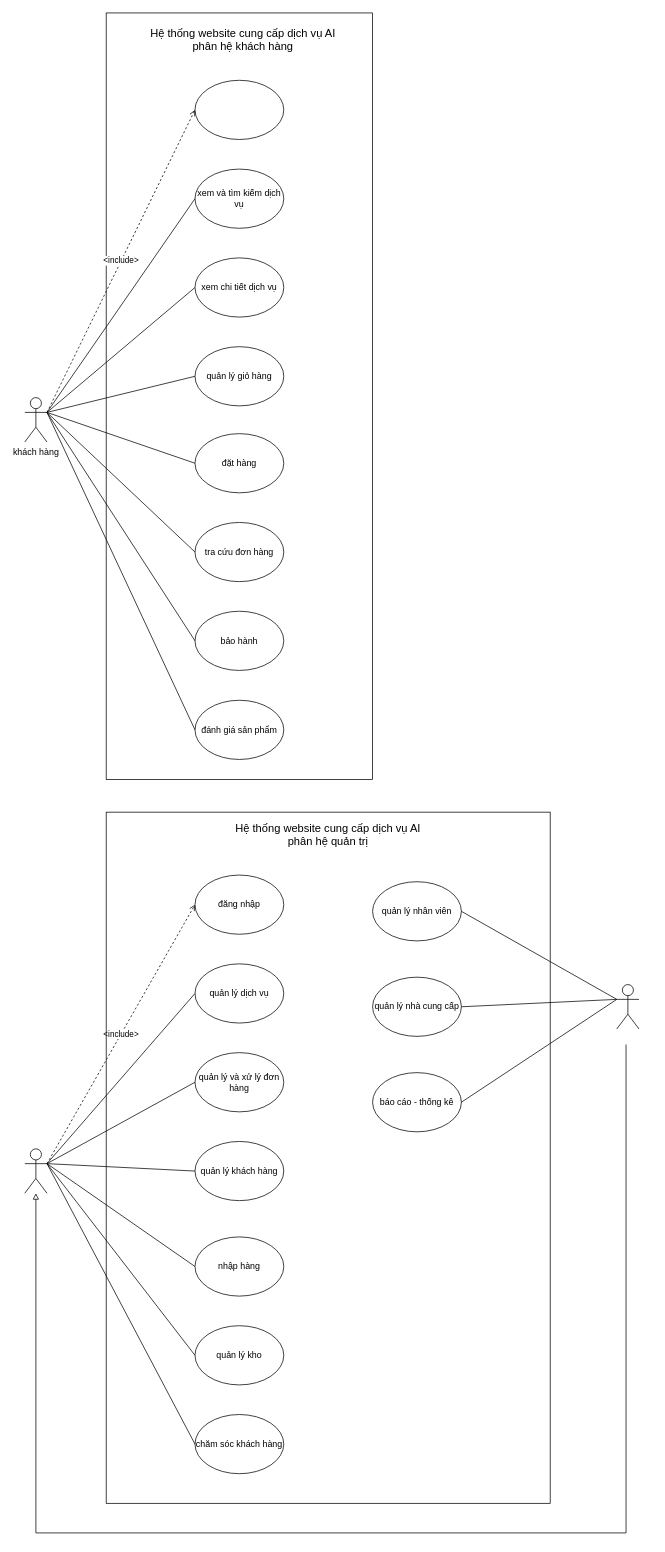
Some shapes in this 665 by 1552 pixel diagram are drawn without their labels. The shapes that lost their labels are listed below. From the top down, each one's centre as x and y in pixels, then its label:
point (239, 109): đăng nhập - đăng ký
point (627, 1006): quản trị viên
point (35, 1170): nhân viên
